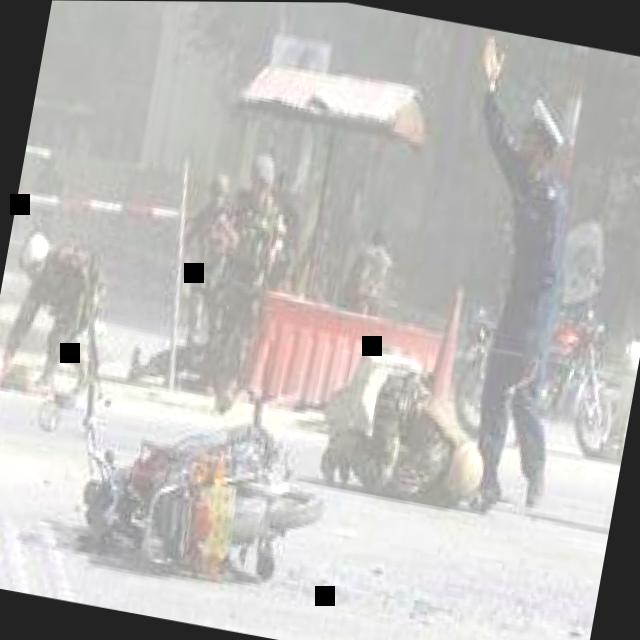Fall-Detected: (304, 340, 517, 519)
